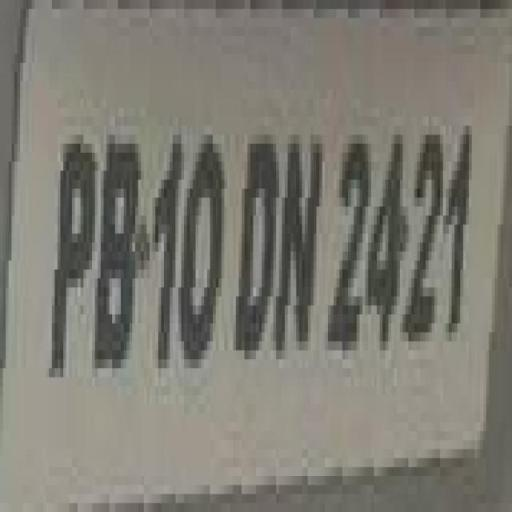number plate: (14, 27, 512, 449)
